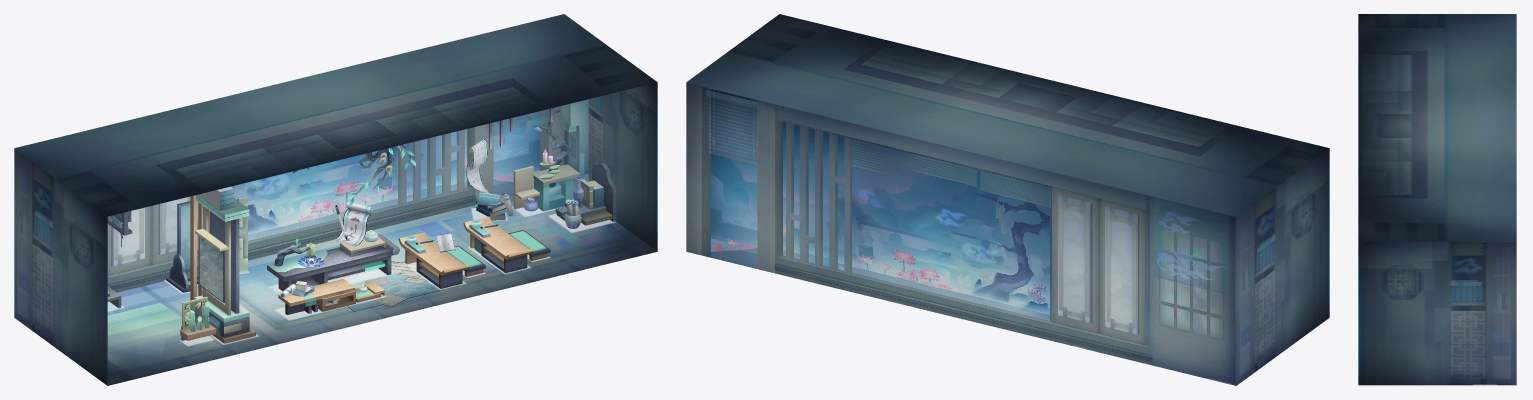
File: yanPrivateSchool.glb
3 renders of one model, left to right at view 1: azimuth 30°, elevation 25°; view 2: azimuth 150°, elevation 25°; view 3: azimuth 270°, elevation 25°, orthographic. The views are drawn at different scales.
Parts seen in each view (by area): view 1: ROOM_room, ROOM_floor, furni_yanPrivateSchool_tallShelf_01, furni_yanPrivateSchool_deadTree_01, furni_yanPrivateSchool_flowerTable_01, furni_yanPrivateSchool_writingTable_01, furni_yanPrivateSchool_bookTable_01, furni_yanPrivateSchool_carpet_01, furni_yanPrivateSchool_books_01, furni_yanPrivateSchool_table_01, ROOM_LDoor, ROOM_RDoor (+9 smaller); view 2: ROOM_room, ROOM_LDoor; view 3: ROOM_room, ROOM_RDoor.
Part boxes in pixels (x1=…): ROOM_room: x1=14, y1=14, x2=657, y2=385; ROOM_floor: x1=107, y1=196, x2=657, y2=385; furni_yanPrivateSchool_tallShelf_01: x1=185, y1=186, x2=255, y2=343; furni_yanPrivateSchool_deadTree_01: x1=513, y1=99, x2=588, y2=211; furni_yanPrivateSchool_flowerTable_01: x1=267, y1=202, x2=399, y2=291; furni_yanPrivateSchool_writingTable_01: x1=463, y1=216, x2=550, y2=272; furni_yanPrivateSchool_bookTable_01: x1=398, y1=232, x2=485, y2=288; furni_yanPrivateSchool_carpet_01: x1=328, y1=261, x2=458, y2=311; furni_yanPrivateSchool_books_01: x1=555, y1=162, x2=616, y2=228; furni_yanPrivateSchool_table_01: x1=278, y1=279, x2=384, y2=314; ROOM_LDoor: x1=74, y1=285, x2=93, y2=375; ROOM_RDoor: x1=625, y1=151, x2=643, y2=241; ROOM_room: x1=686, y1=14, x2=1329, y2=385; ROOM_LDoor: x1=1297, y1=251, x2=1315, y2=341; ROOM_room: x1=1358, y1=14, x2=1516, y2=385; ROOM_RDoor: x1=1381, y1=320, x2=1414, y2=385.
Bounding box in the file's own units: 7.53 × 2.2 × 2.23.
6 materials, 6 textured.
